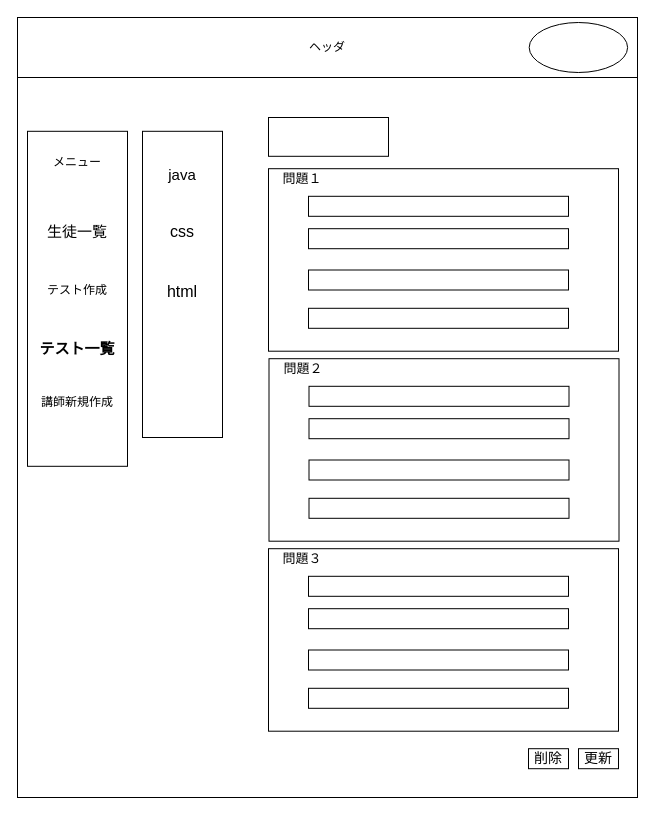
This 655x815 diagram has some shape labels left out. Here are the shapes that lost their labels. From the top down, the centre of each, then its label:
the point at 578,47: ●●さん|logout
the point at 328,136: ○○のテスト
